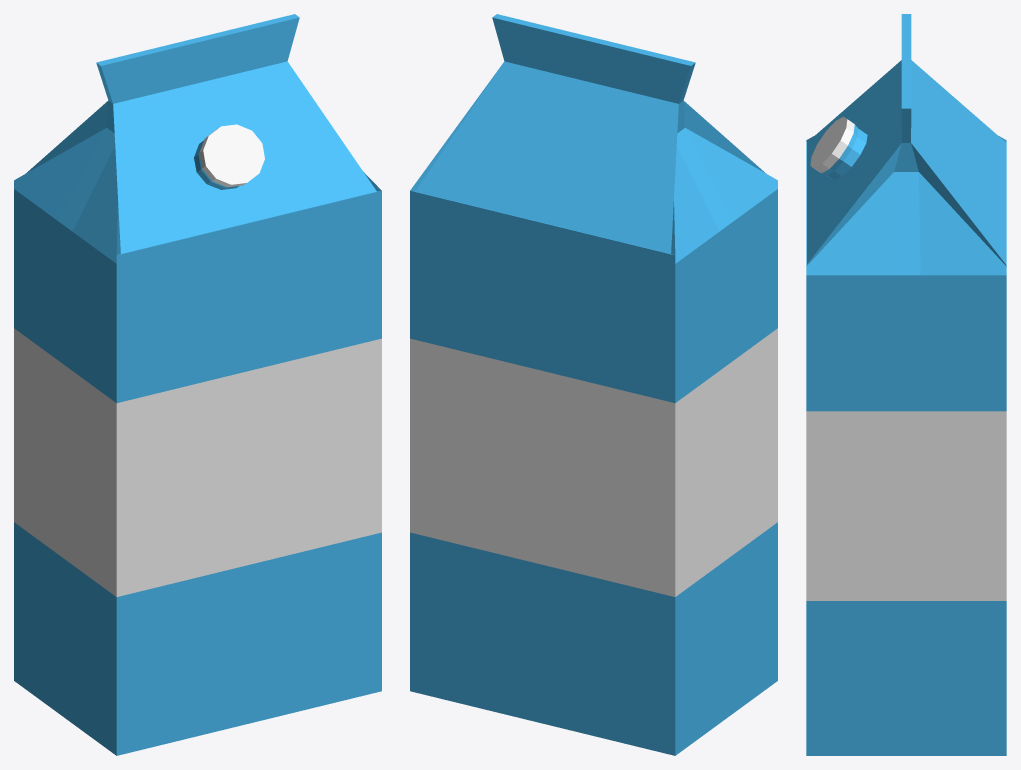
Rendered from milk.fbx.
The picture shows the model from 3 angles, left to right: view 1: azimuth 30°, elevation 25°; view 2: azimuth 150°, elevation 25°; view 3: azimuth 270°, elevation 25°; orthographic projection. The views are drawn at different scales.
Parts seen in each view (by area): view 1: Cylinder.002; view 2: Cylinder.002; view 3: Cylinder.002.
Part boxes in pixels (left/top/right/bottom): Cylinder.002: left=14, top=14, right=381, bottom=755; Cylinder.002: left=410, top=14, right=777, bottom=755; Cylinder.002: left=806, top=14, right=1006, bottom=755.
Bounding box in the file's own units: 105 × 245 × 70.68.
